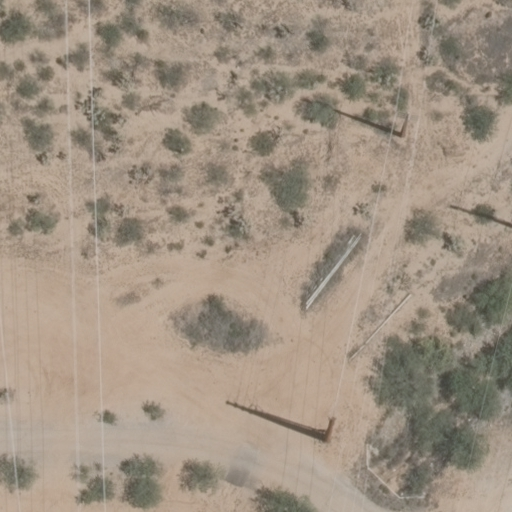DT: (320, 412, 341, 445), (400, 111, 410, 141)
